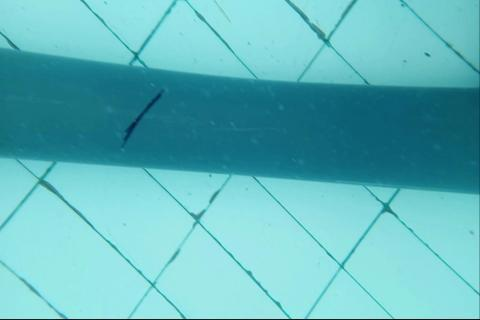keretakan: (121, 89, 163, 147)
